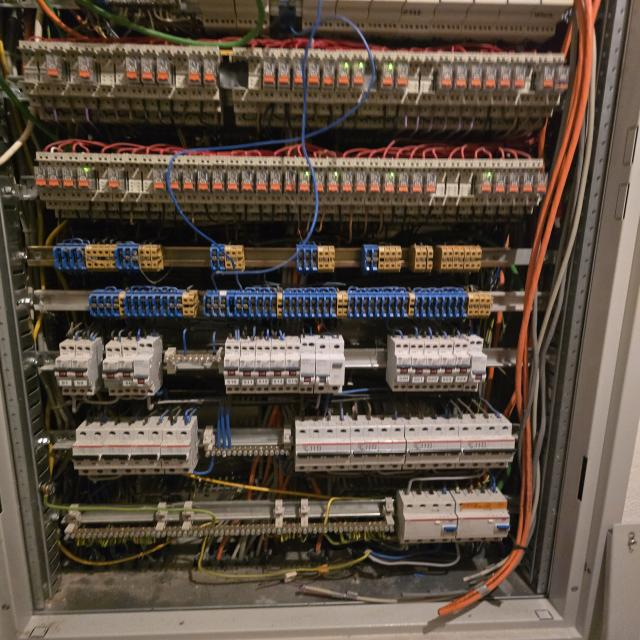FI: (396, 492, 458, 542), (459, 491, 510, 542)
FI_Sicherungskombi: (316, 339, 344, 395)
Relais: (45, 54, 64, 82), (77, 56, 96, 84), (202, 58, 219, 88), (124, 56, 140, 83), (157, 56, 171, 86), (277, 58, 291, 88), (379, 62, 394, 90), (77, 165, 94, 189), (141, 56, 155, 84), (322, 61, 336, 89), (350, 60, 364, 88), (439, 63, 453, 91), (454, 63, 468, 91), (498, 64, 512, 92), (308, 60, 321, 90), (187, 58, 201, 85), (395, 62, 409, 89), (108, 168, 124, 191), (512, 65, 526, 91), (555, 64, 569, 90), (476, 172, 492, 194), (293, 59, 305, 87), (212, 169, 226, 192), (264, 59, 275, 88), (338, 62, 350, 88), (484, 64, 496, 90), (62, 166, 76, 188), (196, 169, 210, 191), (240, 170, 254, 192), (542, 64, 554, 89), (471, 64, 482, 91), (182, 169, 195, 191), (255, 170, 268, 192), (410, 172, 423, 194), (493, 172, 506, 194), (354, 170, 366, 193), (397, 172, 409, 195), (424, 172, 436, 195), (48, 166, 61, 187), (169, 169, 182, 190), (270, 170, 282, 192), (383, 172, 395, 194), (535, 172, 547, 194), (34, 166, 47, 186), (153, 170, 166, 190), (341, 171, 352, 194), (509, 172, 520, 194), (227, 170, 238, 191), (286, 170, 296, 193), (369, 172, 380, 192), (522, 172, 532, 194), (300, 171, 310, 192), (314, 172, 324, 192), (328, 172, 338, 192)
Sicherungen_230V: (463, 339, 487, 392), (55, 343, 78, 395), (72, 343, 94, 396), (133, 342, 154, 395), (420, 342, 442, 392), (449, 342, 471, 391), (435, 343, 456, 392), (103, 345, 123, 396), (407, 341, 427, 392), (72, 429, 94, 475), (119, 345, 138, 395), (101, 429, 121, 475), (393, 341, 411, 391), (116, 429, 136, 474), (145, 429, 165, 474), (87, 429, 106, 474), (131, 429, 150, 474), (161, 429, 179, 474), (301, 339, 315, 395), (240, 343, 255, 394), (176, 429, 193, 474), (226, 343, 240, 394), (256, 343, 270, 393), (272, 343, 285, 394), (286, 343, 299, 393)
Sicherungen_400V: (296, 425, 350, 471), (351, 425, 404, 470), (406, 425, 459, 468), (460, 425, 514, 467)
Verbinder: (205, 289, 492, 319), (54, 243, 164, 272), (88, 290, 198, 318), (436, 245, 481, 274), (295, 245, 335, 272), (363, 245, 401, 272), (209, 244, 245, 272), (412, 245, 433, 272)
